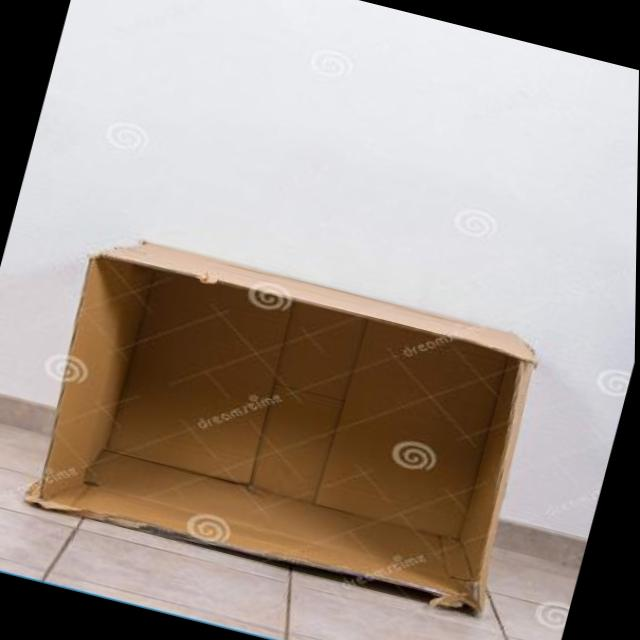box: (15, 210, 577, 636)
